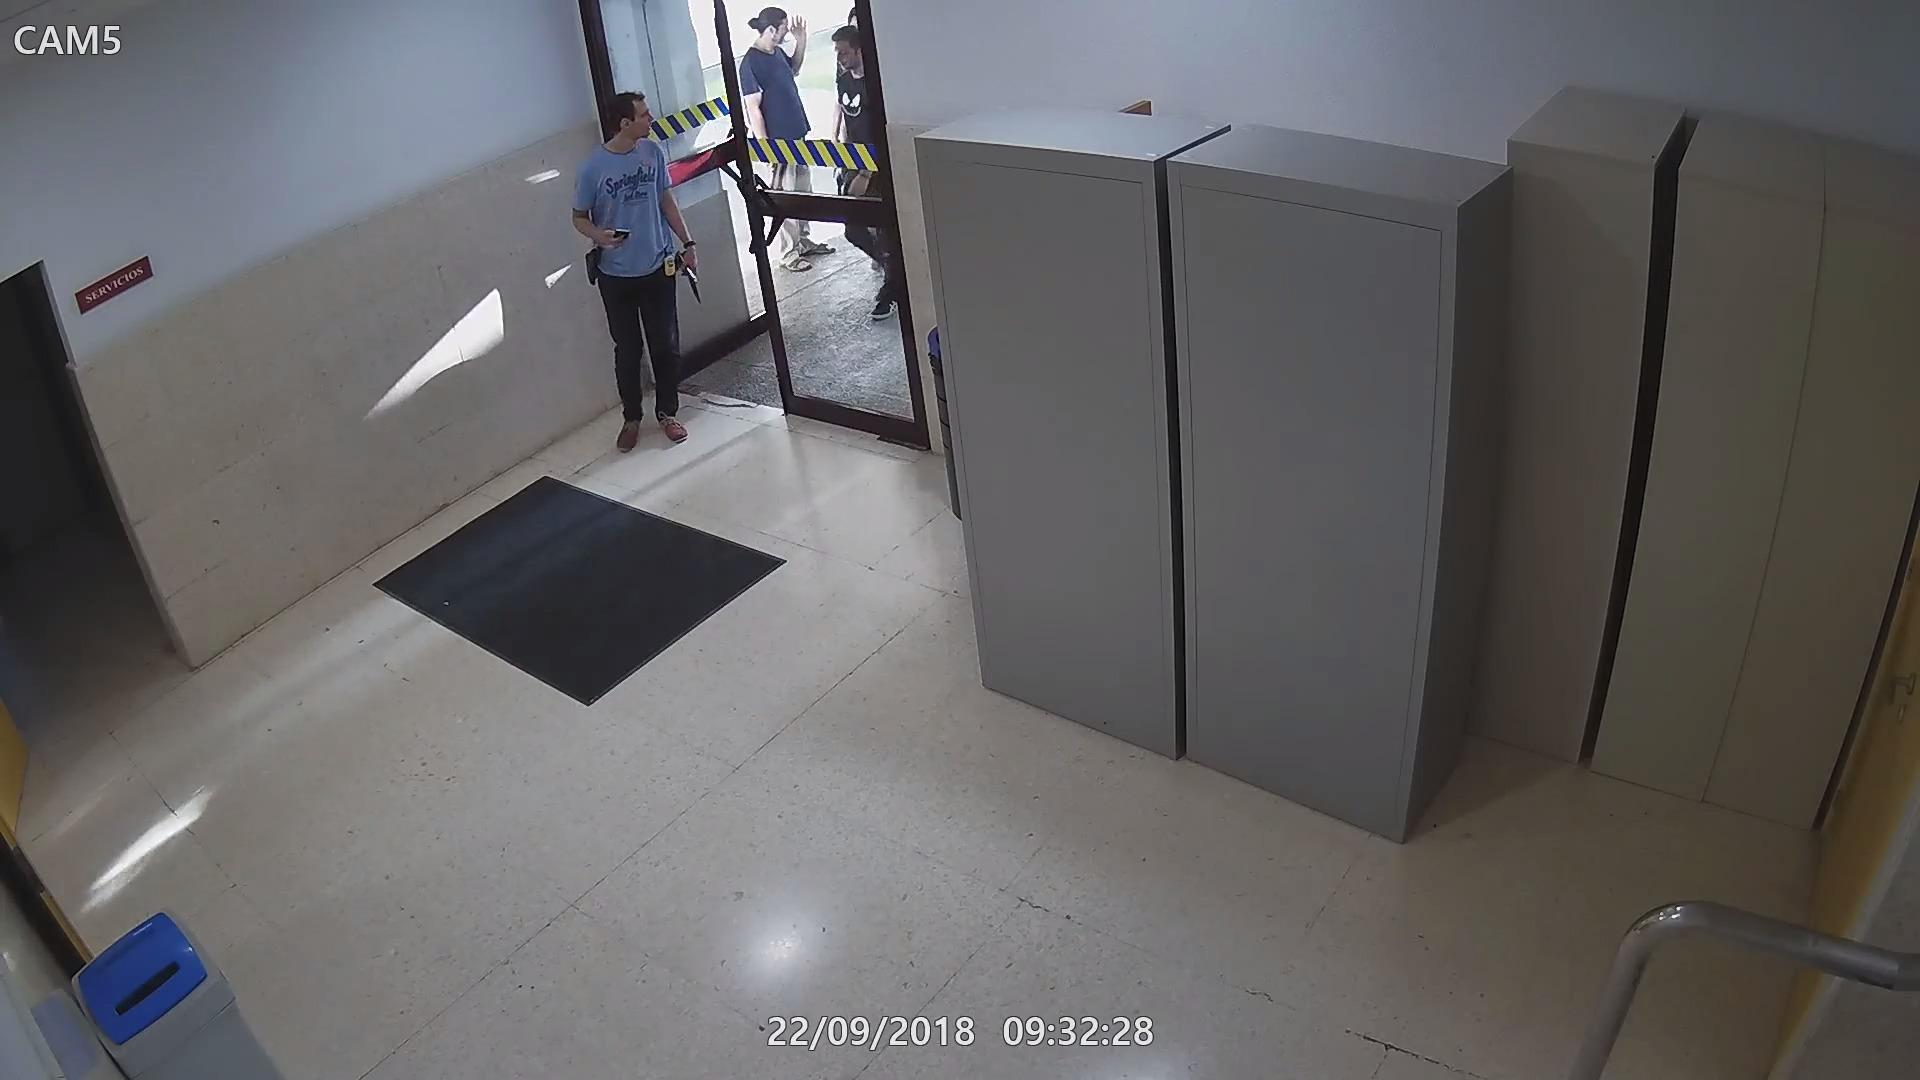Handgun: (674, 243, 705, 303)
